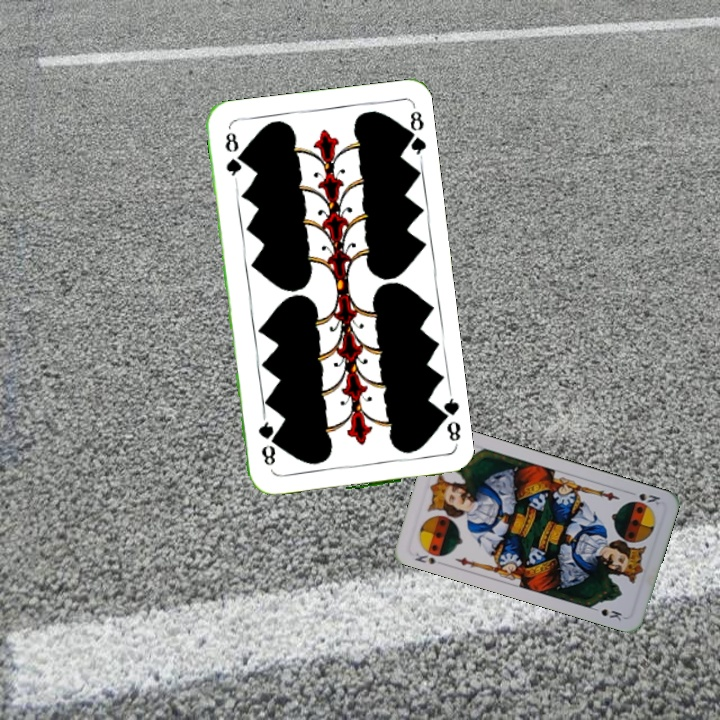G8: (433, 391, 463, 450), (221, 128, 245, 184)
SK: (626, 489, 663, 509), (411, 549, 438, 567)
